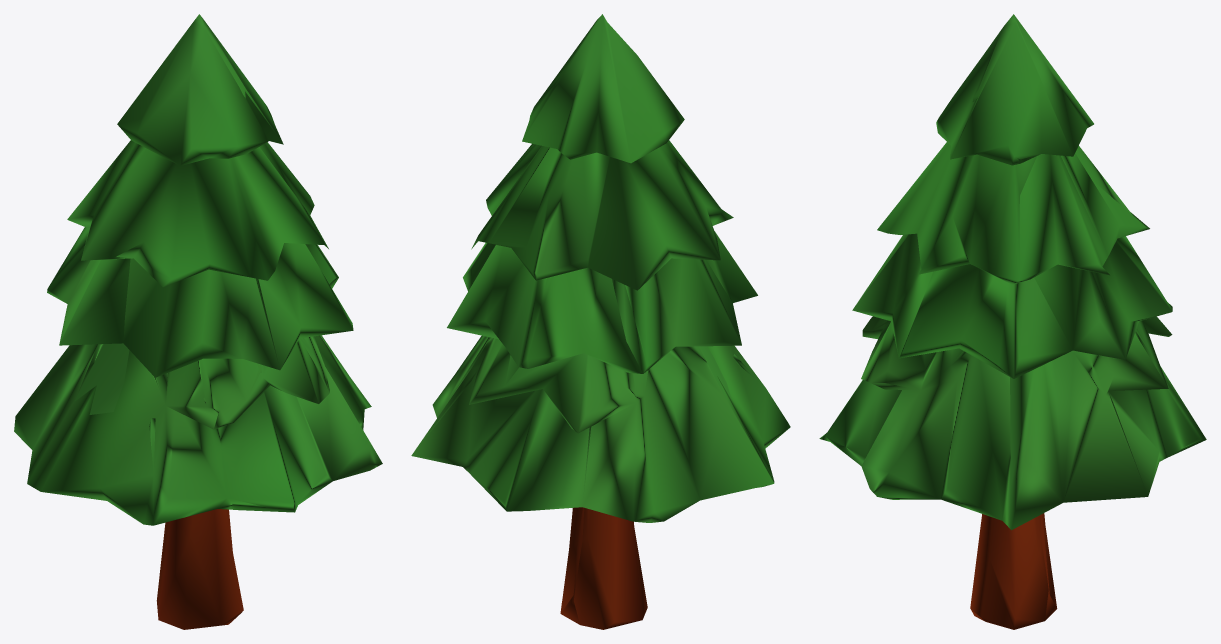
Rendered from gen3d-larch-tree-lod1.glb.
3 views of the same model, side by side, from view 1: azimuth 30°, elevation 25°; view 2: azimuth 150°, elevation 25°; view 3: azimuth 270°, elevation 25° (orthographic).
Visible parts, largest first — view 1: part_0; view 2: part_0; view 3: part_0.
Part boxes in pixels (<box>): part_0: <box>14,14,382,629</box>; part_0: <box>411,14,790,629</box>; part_0: <box>819,14,1206,629</box>.
Size of the model in its own units: 0.6 by 0.9998 by 0.588.
